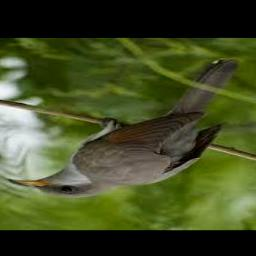Cuckoo: (8, 60, 240, 198)
